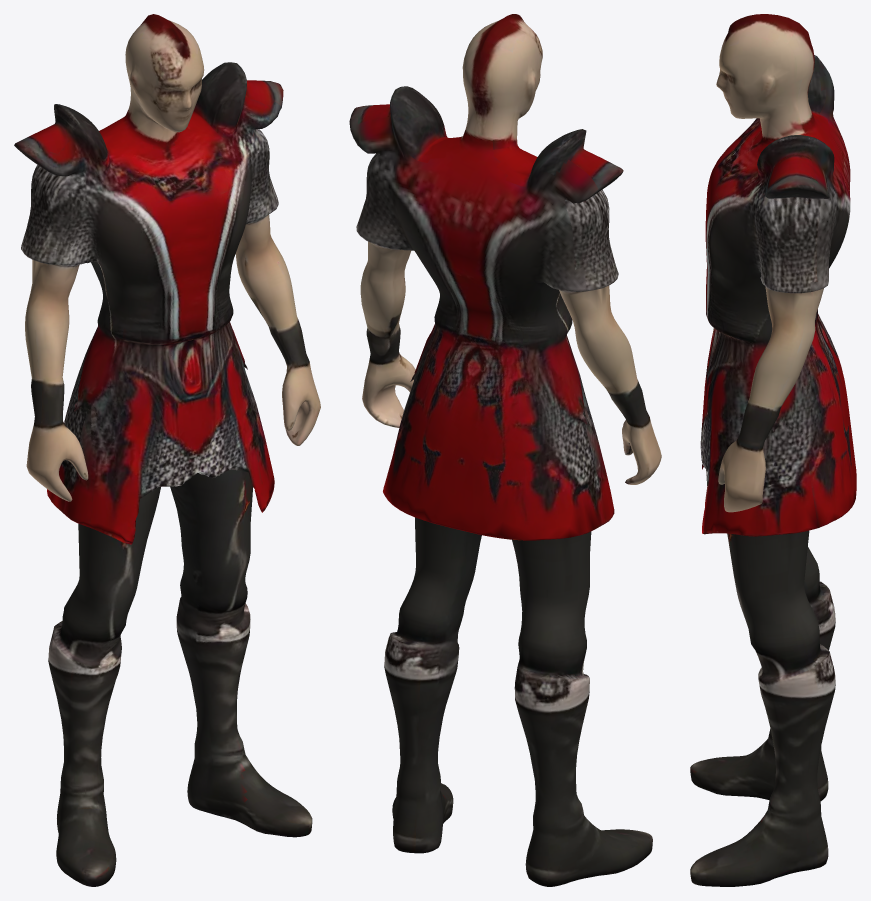
File: ignis-molok-male-archer.glb
The picture shows the model from 3 angles, left to right: view 1: azimuth 30°, elevation 25°; view 2: azimuth 150°, elevation 25°; view 3: azimuth 270°, elevation 25°; orthographic projection.
Visible parts, largest first — view 1: model; view 2: model; view 3: model.
Part boxes in pixels (box(x1,y1,x2,y2)): model: box(14, 14, 320, 886); model: box(349, 14, 661, 886); model: box(690, 14, 856, 886).
Bounding box in the file's own units: 0.6958 × 1.9 × 0.3507.
1 material, 1 textured.
